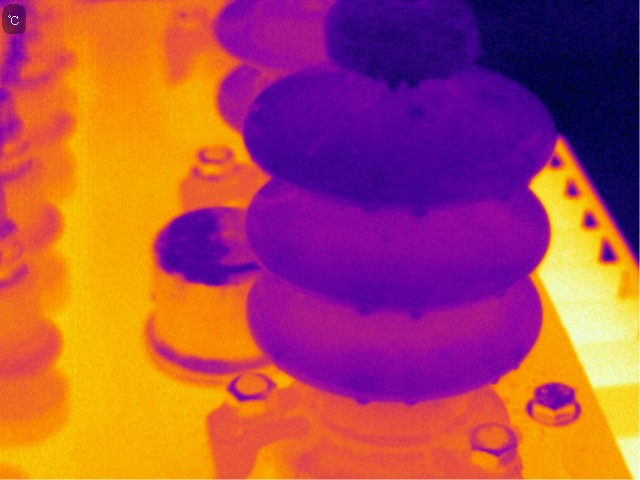Water: (351, 297, 379, 318), (405, 100, 426, 121), (364, 61, 380, 83), (352, 391, 375, 406), (492, 281, 511, 298), (385, 72, 399, 95), (409, 205, 429, 221), (404, 74, 421, 92), (409, 307, 428, 323), (401, 393, 420, 408), (359, 203, 380, 216), (486, 370, 501, 387), (449, 32, 468, 45), (269, 347, 284, 363), (268, 159, 283, 175), (495, 192, 512, 205), (511, 352, 522, 371), (439, 67, 451, 82)
